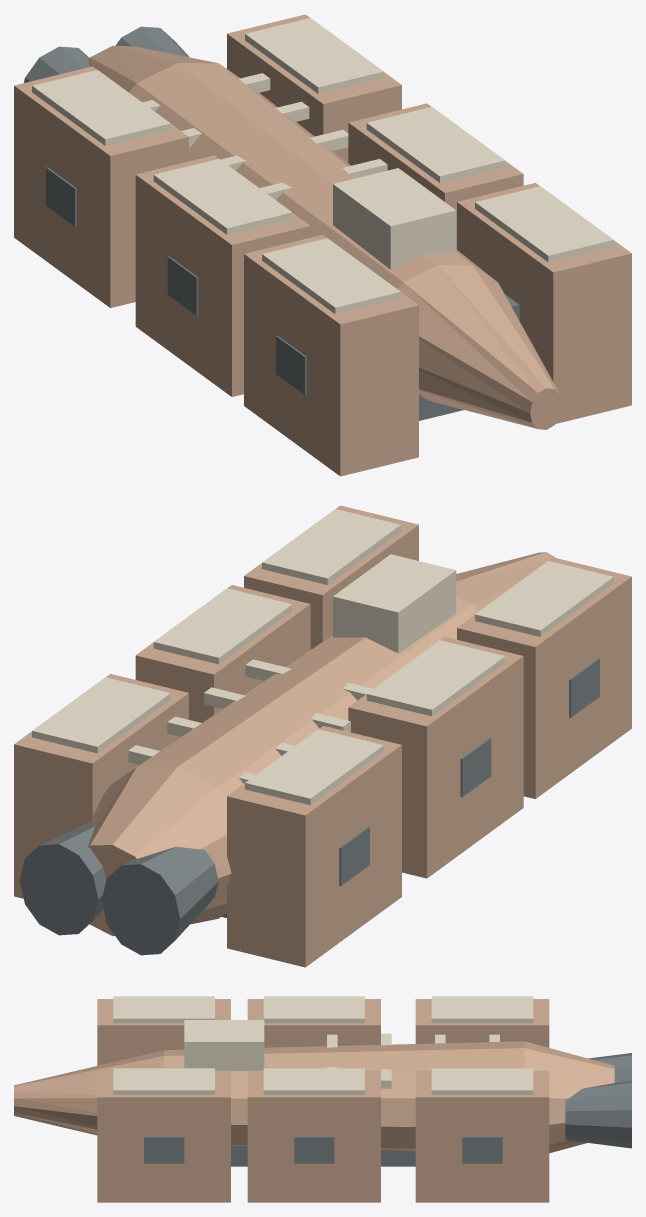
3 views of the same model, one above another, from view 1: azimuth 30°, elevation 25°; view 2: azimuth 150°, elevation 25°; view 3: azimuth 270°, elevation 25° (orthographic). The views are drawn at different scales.
Size of the model in its own units: 3.64 by 2.08 by 9.54.
